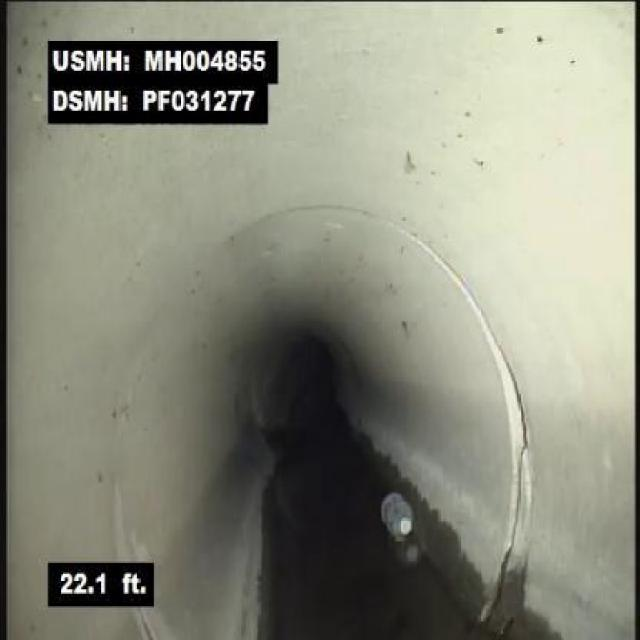Joint offset: (488, 350, 544, 556)
